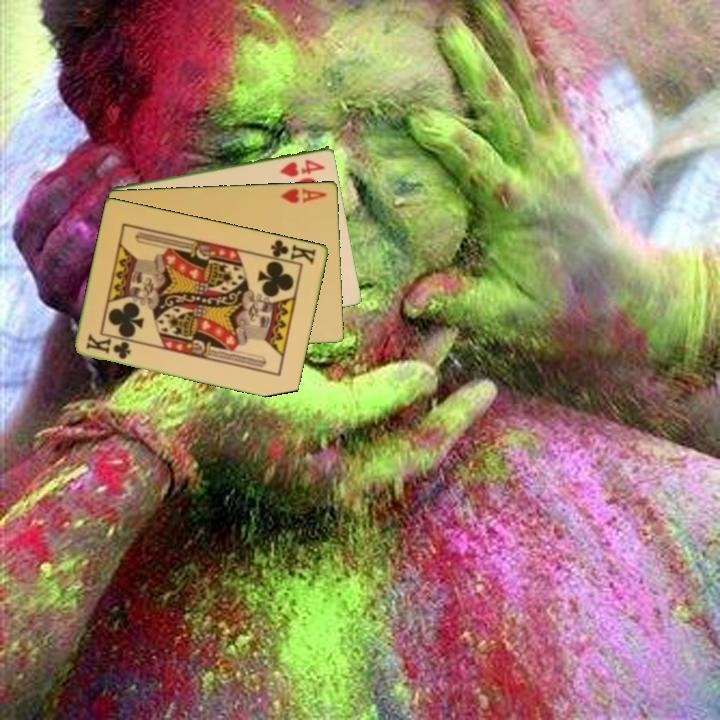4h: (276, 155, 328, 179)
Ah: (277, 185, 330, 206)
Kc: (264, 236, 319, 267), (83, 331, 134, 362)
